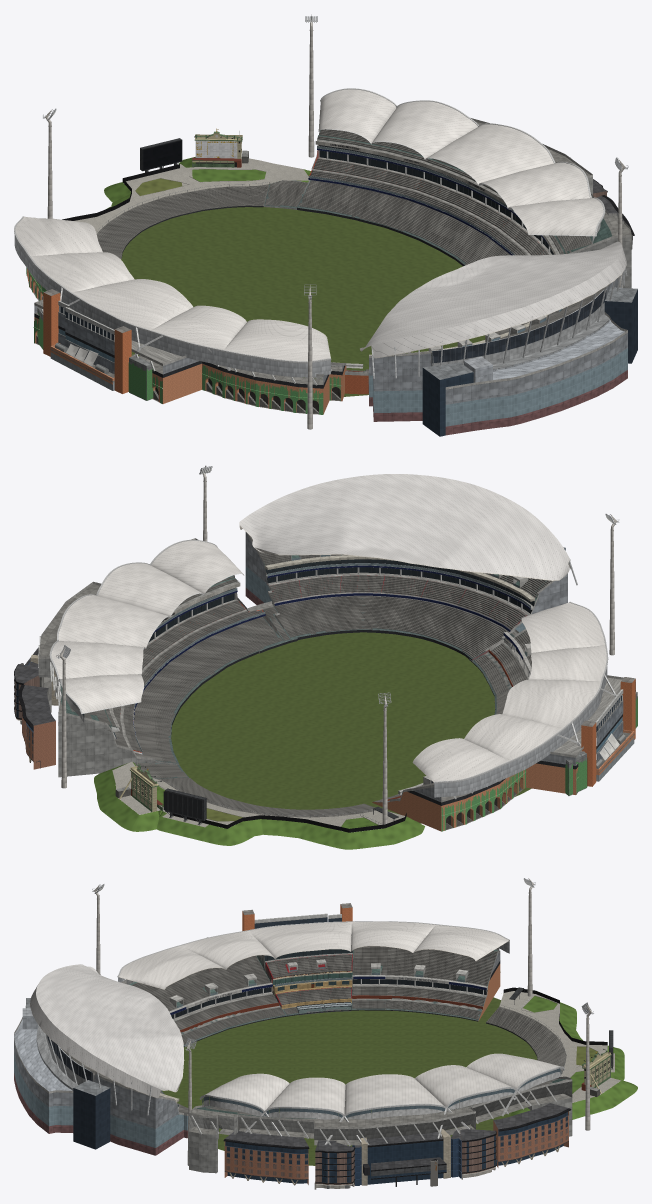
Rendered from adelaide.glb.
3 views of the same model, one above another, from view 1: azimuth 30°, elevation 25°; view 2: azimuth 150°, elevation 25°; view 3: azimuth 270°, elevation 25° (orthographic). The views are drawn at different scales.
Parts seen in each view (by area): view 1: ao_stands, ao_floor, ao_roof_west, ao_roof_east, ao_roof_river, ao_hill, ao_seats_2, ao_ivy, ao_towers, ao_block_river_w_box, ao_seats_3, ao_block_river_e_tower (+3 smaller); view 2: ao_floor, ao_stands, ao_roof_river, ao_roof_west, ao_roof_east, ao_hill, ao_seats_5, ao_seats_2, ao_hotel, ao_towers, ao_ivy, ao_seats_1 (+2 smaller); view 3: ao_stands, ao_floor, ao_hotel, ao_roof_east, ao_roof_river, ao_roof_west, ao_seats_1, ao_hill, ao_block_river_e_tower, ao_seats_0, ao_towers.
Part boxes in pixels (x1,y1,x2,y2): ao_stands: (27, 118, 632, 435); ao_floor: (121, 180, 485, 396); ao_roof_west: (14, 216, 331, 377); ao_roof_east: (318, 88, 605, 243); ao_roof_river: (360, 241, 627, 378); ao_hill: (62, 128, 310, 258); ao_seats_2: (298, 129, 592, 264); ao_ivy: (26, 267, 340, 414); ao_towers: (43, 14, 628, 429); ao_block_river_w_box: (422, 362, 473, 436); ao_seats_3: (310, 170, 527, 255); ao_block_river_e_tower: (604, 287, 637, 363); ao_floor: (171, 632, 531, 823); ao_stands: (38, 532, 637, 831); ao_roof_river: (239, 474, 577, 585); ao_roof_west: (412, 601, 616, 797); ao_roof_east: (49, 539, 244, 724); ao_hill: (94, 760, 424, 849); ao_seats_5: (249, 535, 551, 658); ao_seats_2: (69, 576, 282, 762); ao_hotel: (14, 647, 58, 769); ao_towers: (56, 465, 619, 824); ao_ivy: (441, 696, 637, 831); ao_seats_1: (374, 630, 531, 801); ao_stands: (14, 903, 572, 1173); ao_floor: (162, 997, 537, 1165); ao_hotel: (223, 1103, 571, 1189); ao_roof_east: (199, 1053, 564, 1144); ao_roof_river: (30, 964, 184, 1115); ao_roof_west: (117, 921, 509, 989); ao_seats_1: (131, 946, 497, 1044); ao_hill: (486, 987, 637, 1119); ao_block_river_e_tower: (73, 1080, 110, 1149); ao_seats_0: (266, 954, 351, 1014); ao_towers: (92, 878, 593, 1165).
Size of the model in its own units: 263 by 66.08 by 295.
15 materials, 15 textured.
